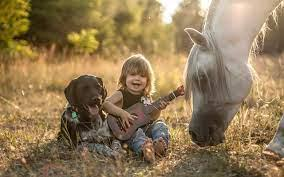child: (107, 50, 177, 161)
